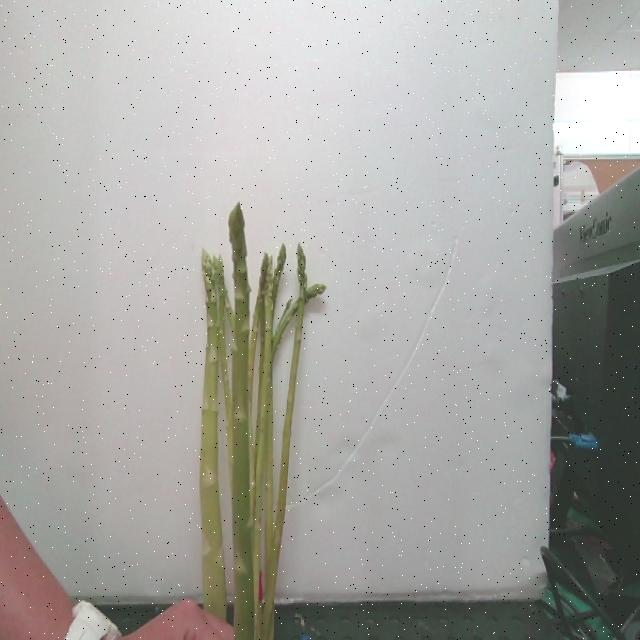aspargus: (200, 210, 326, 640)
